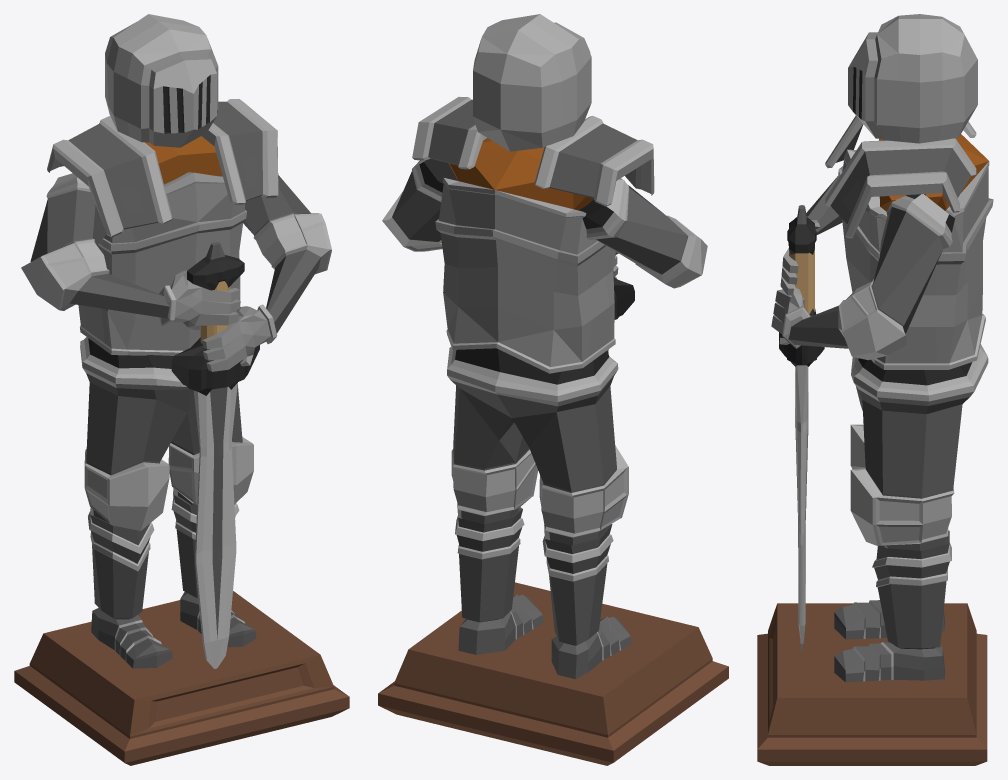
File: IronArmorStand.fbx
The picture shows the model from 3 angles, left to right: view 1: azimuth 30°, elevation 25°; view 2: azimuth 150°, elevation 25°; view 3: azimuth 270°, elevation 25°; orthographic projection. The views are drawn at different scales.
Visible parts, largest first — view 1: IronArmorStand; view 2: IronArmorStand; view 3: IronArmorStand.
Boxes of the visible parts, box(x1,y1,x2,y2) form: IronArmorStand: box(14, 14, 349, 765); IronArmorStand: box(378, 14, 728, 765); IronArmorStand: box(757, 14, 993, 765).
Bounding box in the file's own units: 98.21 × 214 × 65.78.
1 material, 1 textured.
